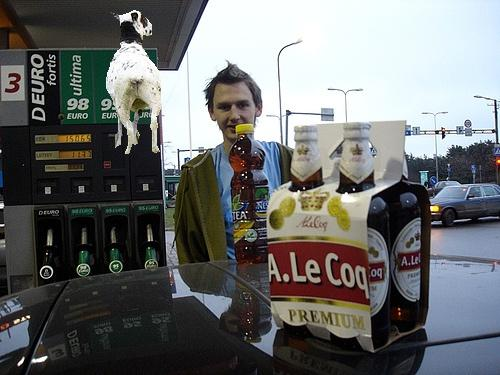tampered: (107, 11, 161, 154)
